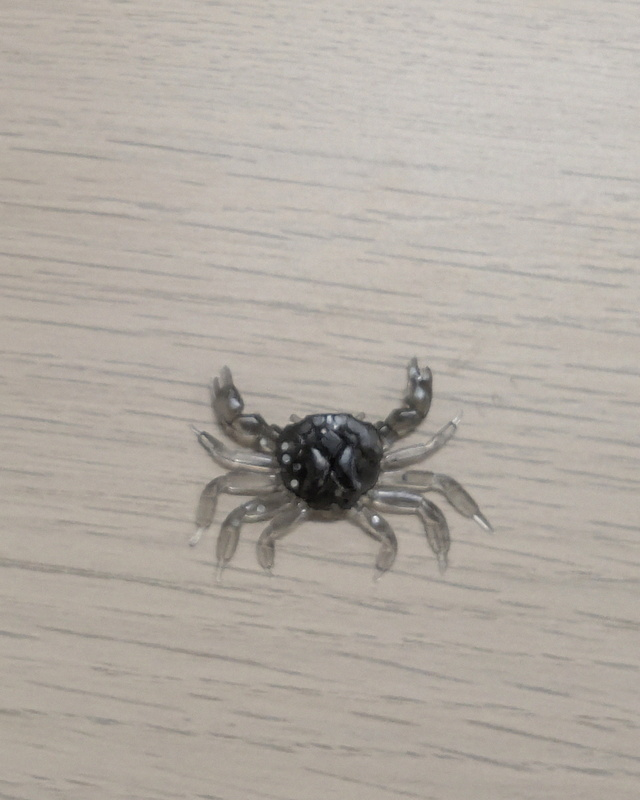crab1: (186, 357, 494, 582)
